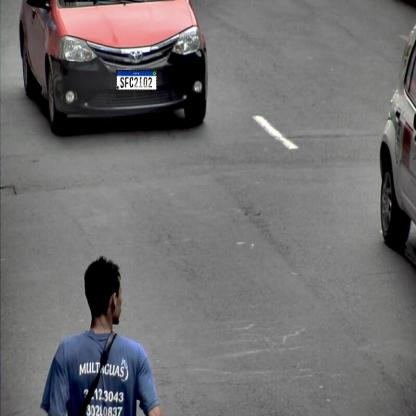PlacaM: (116, 70, 157, 91)
